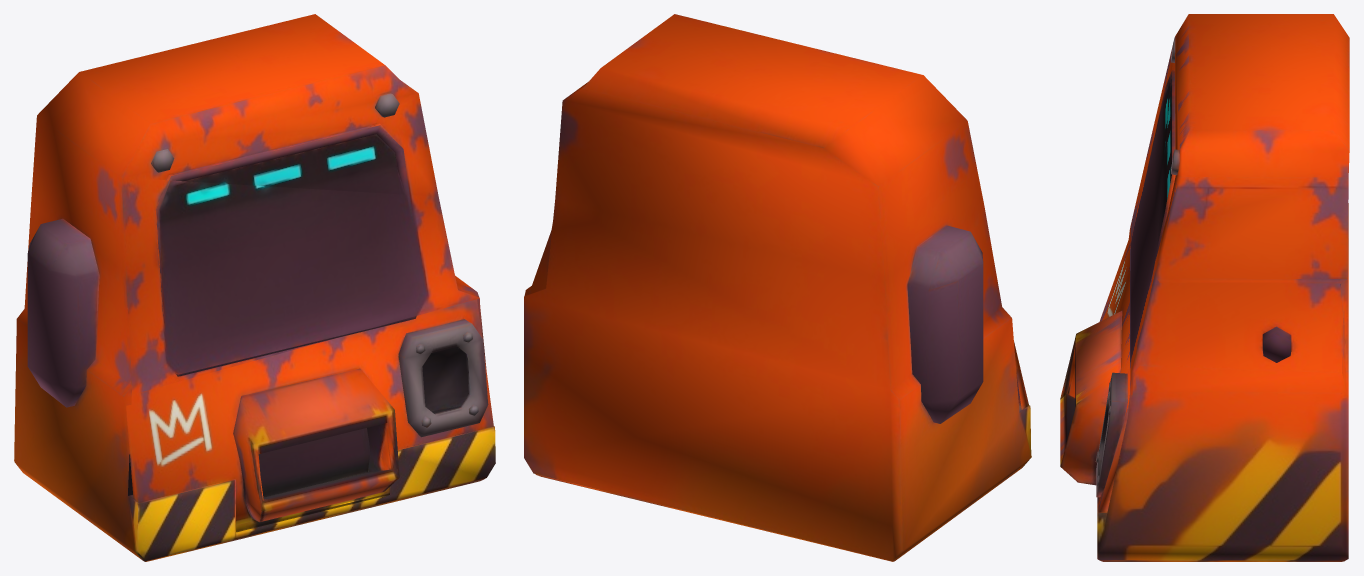
File: tripo_convert_275dc57f-e328-47e0-89e5-10195d3209c4.glb
3 renders of one model, left to right at view 1: azimuth 30°, elevation 25°; view 2: azimuth 150°, elevation 25°; view 3: azimuth 270°, elevation 25°, orthographic. The views are drawn at different scales.
Parts seen in each view (by area): view 1: tripo_node_275dc57f-e328-47e0-89e5-10195d3209c4; view 2: tripo_node_275dc57f-e328-47e0-89e5-10195d3209c4; view 3: tripo_node_275dc57f-e328-47e0-89e5-10195d3209c4.
Boxes of the visible parts, x1=… form: tripo_node_275dc57f-e328-47e0-89e5-10195d3209c4: x1=14, y1=14, x2=495, y2=561; tripo_node_275dc57f-e328-47e0-89e5-10195d3209c4: x1=524, y1=14, x2=1031, y2=561; tripo_node_275dc57f-e328-47e0-89e5-10195d3209c4: x1=1060, y1=14, x2=1349, y2=561.
Size of the model in its own units: 0.998 by 0.9941 by 0.6426.
1 material, 1 textured.
